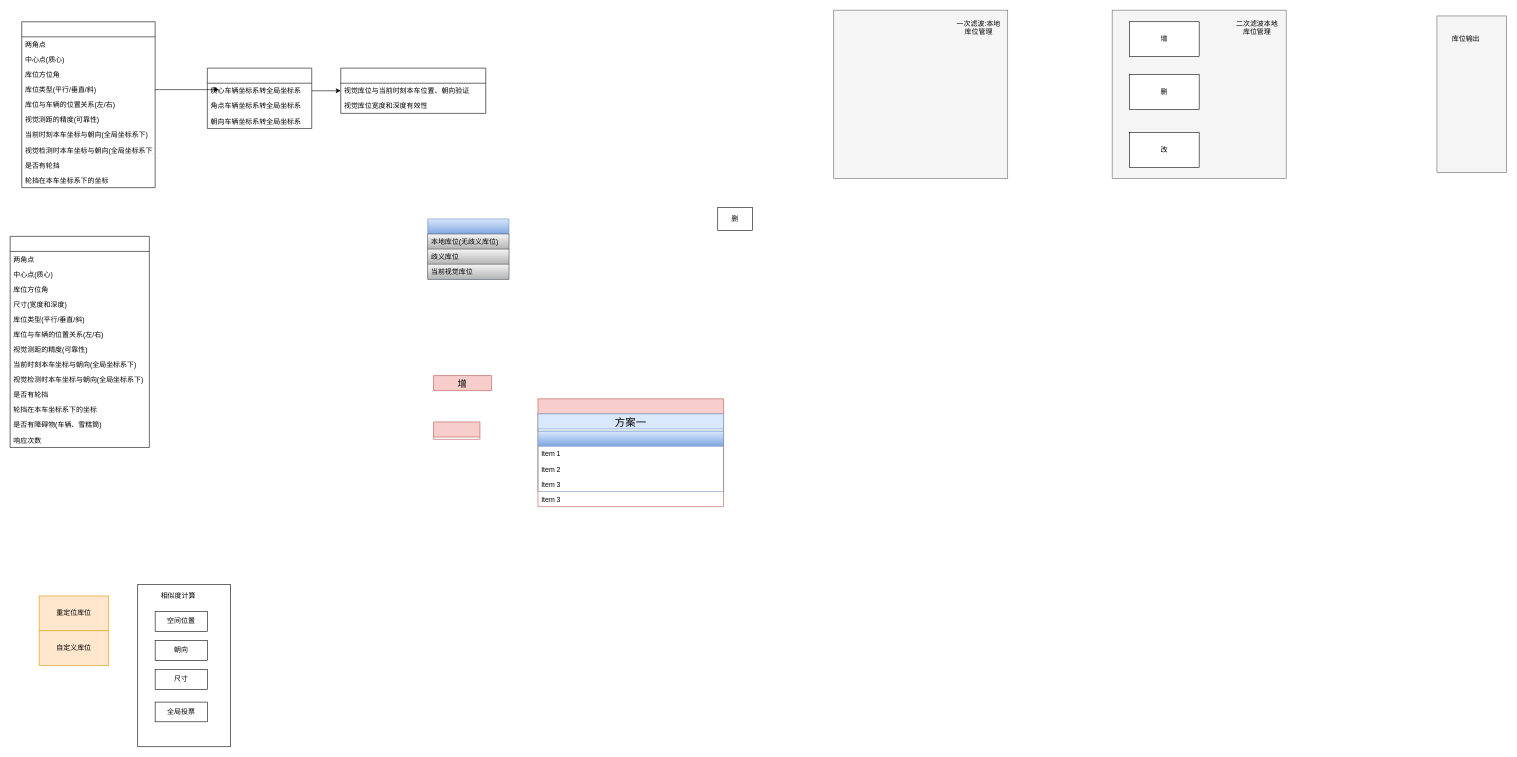
This 1517x757 diagram has some shape labels left out. The box of each missing label's shape, as (x1, y1, x2, y2) in pixels:
2. 改: (433, 421, 480, 439)
三大变量: (427, 218, 509, 279)
方案二: (537, 431, 724, 492)
本地库位: (10, 236, 149, 447)
歧义库位处理: (537, 398, 724, 507)
空间对齐: (207, 68, 312, 128)
视觉库位信息: (21, 21, 155, 188)
视觉库位有效性验证: (340, 68, 486, 113)
